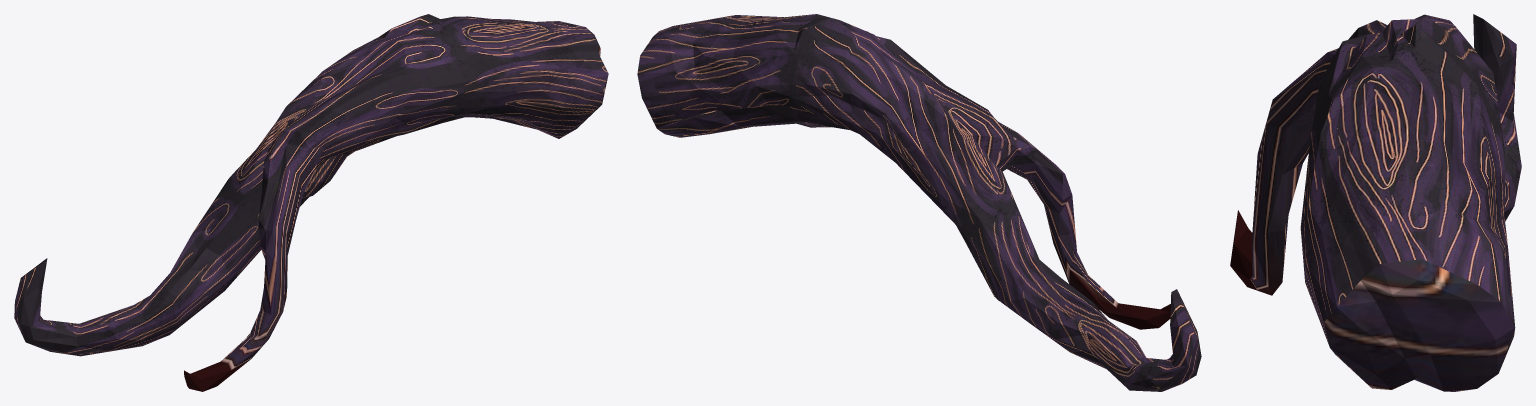
File: entity42460.gltf
3 renders of one model, left to right at view 1: azimuth 30°, elevation 25°; view 2: azimuth 150°, elevation 25°; view 3: azimuth 270°, elevation 25°, orthographic. The views are drawn at different scales.
Parts seen in each view (by area): view 1: node_mesh_root_021; view 2: node_mesh_root_021; view 3: node_mesh_root_021.
Part boxes in pixels (x1=…): node_mesh_root_021: x1=14, y1=14, x2=608, y2=391; node_mesh_root_021: x1=637, y1=14, x2=1201, y2=391; node_mesh_root_021: x1=1230, y1=14, x2=1521, y2=391.
Size of the model in its own units: 485 by 229 by 126.
Materials: 1 (1 with a texture image).
